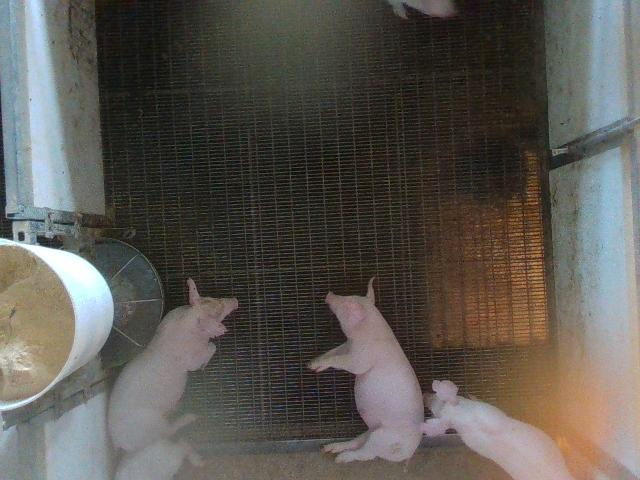pig-1: (309, 279, 422, 462)
